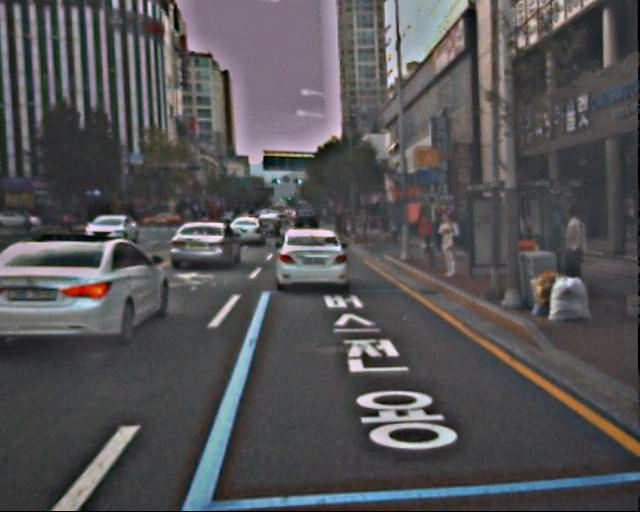person: (553, 208, 592, 303), (434, 208, 464, 281), (416, 213, 435, 259)
